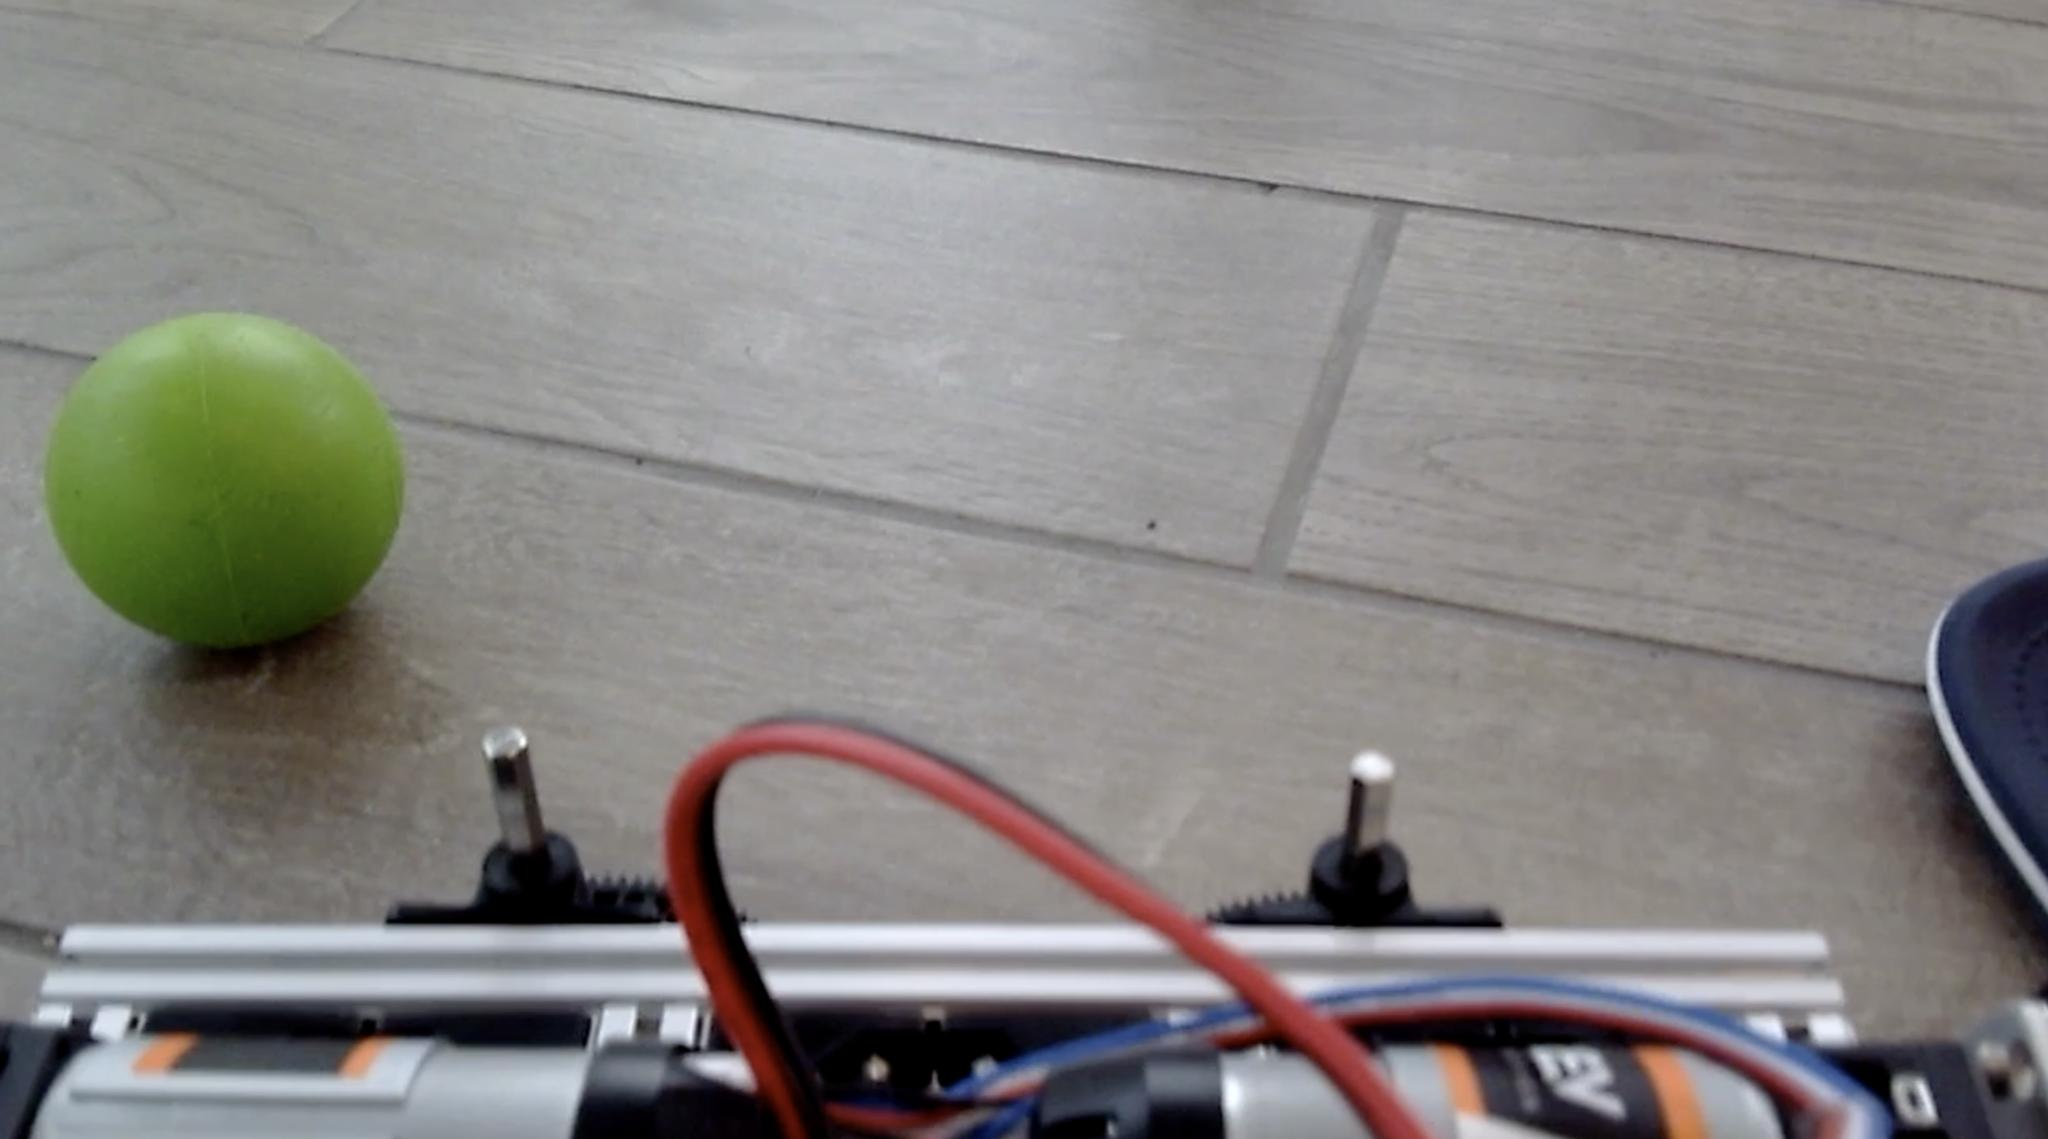greenball: (42, 306, 407, 652)
